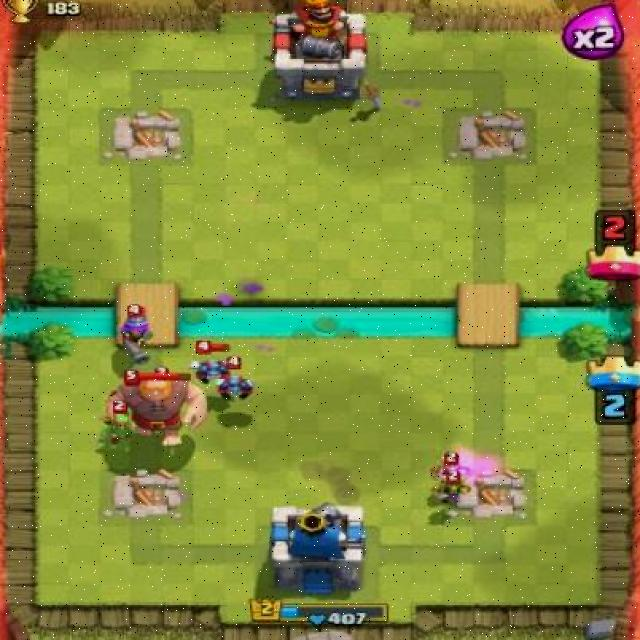Enemy-Giant: (106, 369, 212, 449)
Enemy-Goblin: (430, 450, 473, 491), (428, 470, 472, 506)
Enemy-Minion: (186, 339, 241, 389), (212, 353, 258, 406)
Enemy-Musketeer: (115, 301, 158, 368)
Enemy-SpearGoblin: (153, 363, 194, 412), (100, 399, 138, 448)
